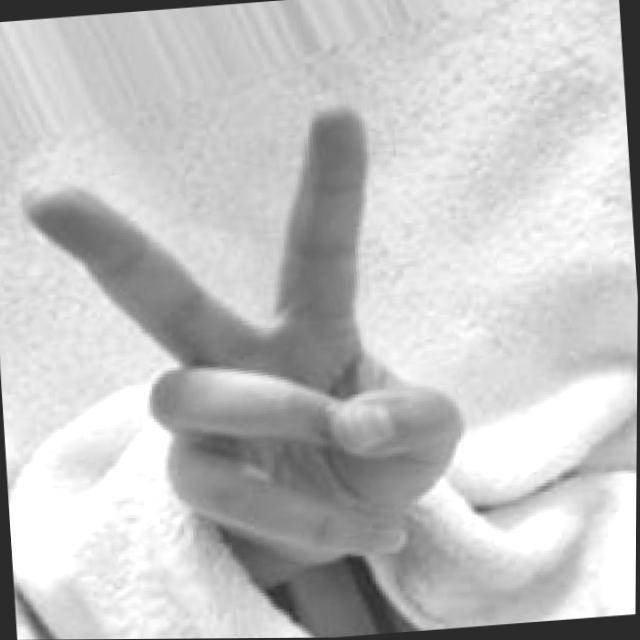V: (11, 90, 478, 588)
